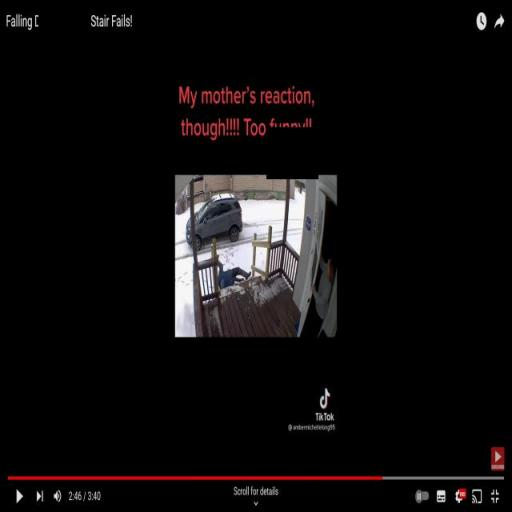Fall: (214, 256, 252, 290)
